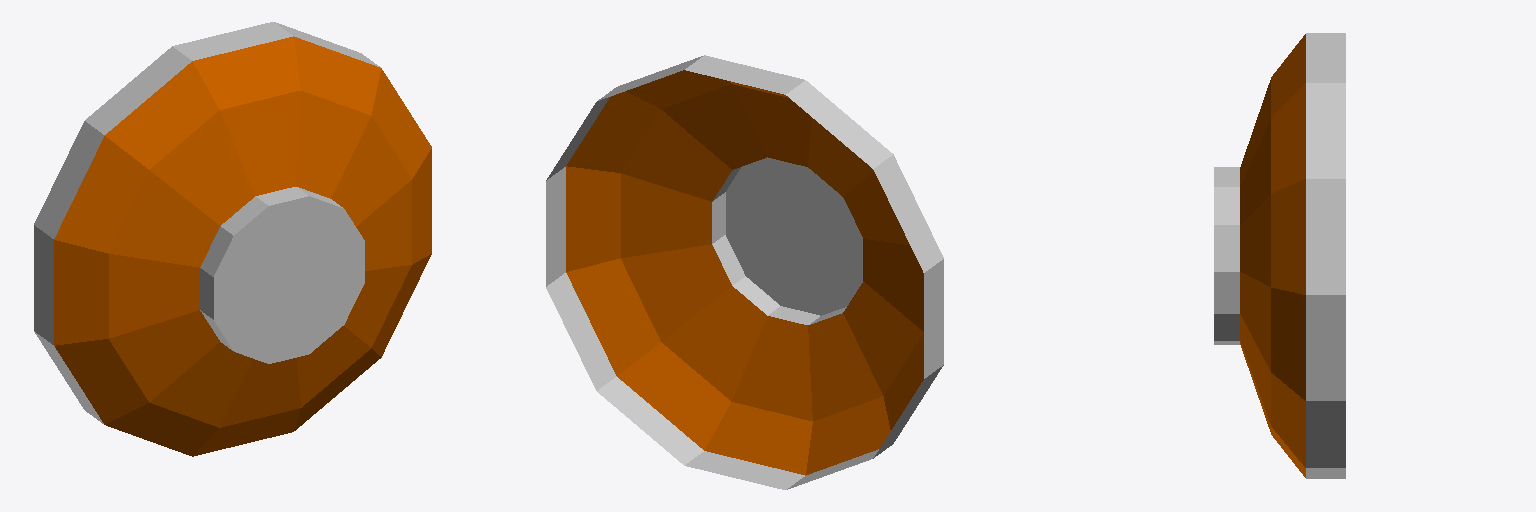
Rendered from Track4HammerButton.obj.
3 views of the same model, side by side, from view 1: azimuth 30°, elevation 25°; view 2: azimuth 150°, elevation 25°; view 3: azimuth 270°, elevation 25° (orthographic).
Visible parts, largest first — view 1: Circle_Circle; view 2: Circle_Circle; view 3: Circle_Circle.
Part boxes in pixels (left/top/right/bottom): Circle_Circle: left=34, top=22, right=431, bottom=456; Circle_Circle: left=546, top=55, right=943, bottom=489; Circle_Circle: left=1214, top=33, right=1345, bottom=478.
Bounding box in the file's own units: 0.9852 × 0.9852 × 0.2992.